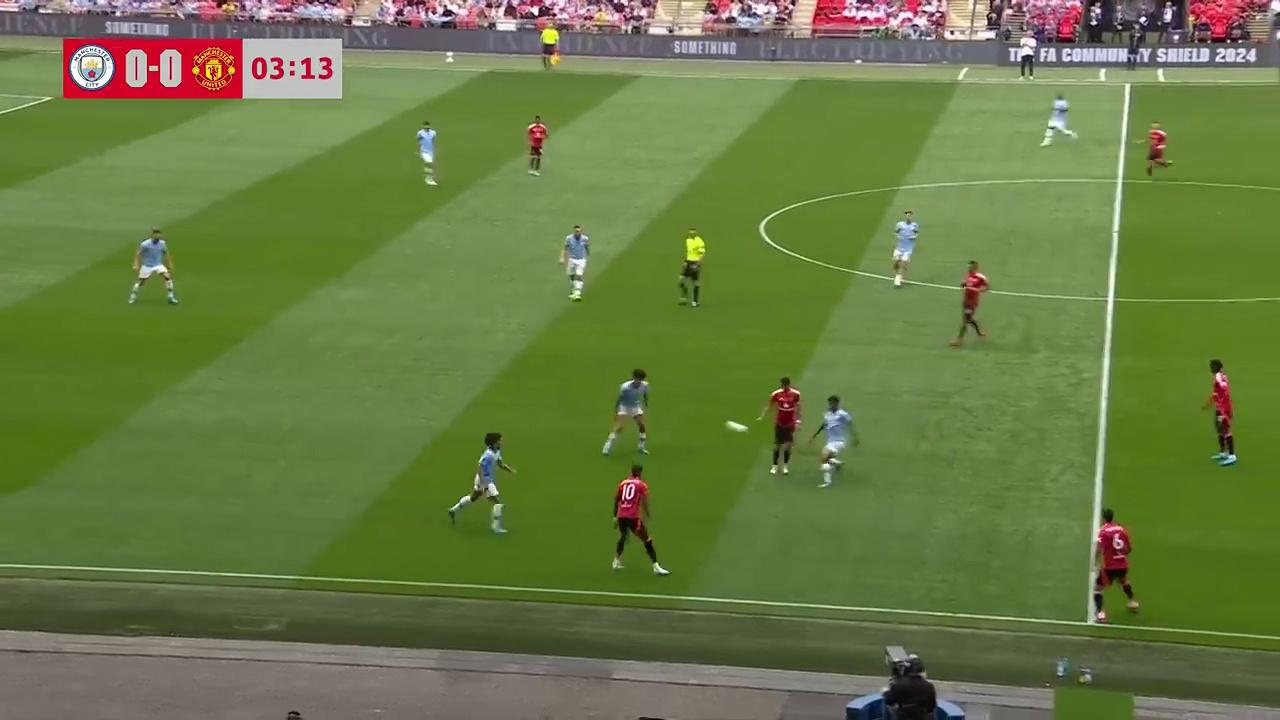ball: (724, 416, 750, 435)
player: (449, 432, 516, 535), (610, 464, 668, 574), (1089, 509, 1141, 620), (756, 375, 803, 475), (807, 395, 857, 488), (601, 367, 650, 458), (1199, 359, 1237, 466), (127, 228, 178, 306), (948, 260, 989, 348), (559, 224, 590, 301), (891, 208, 919, 287), (1039, 93, 1077, 146), (1141, 120, 1171, 177), (416, 119, 438, 186), (525, 115, 548, 176)
referee: (677, 228, 705, 309), (539, 19, 561, 71)
